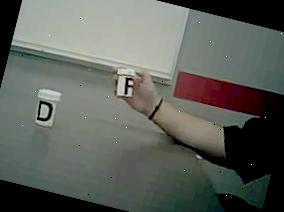Bottle D: (30, 84, 73, 132)
Bottle F: (109, 64, 140, 102)
